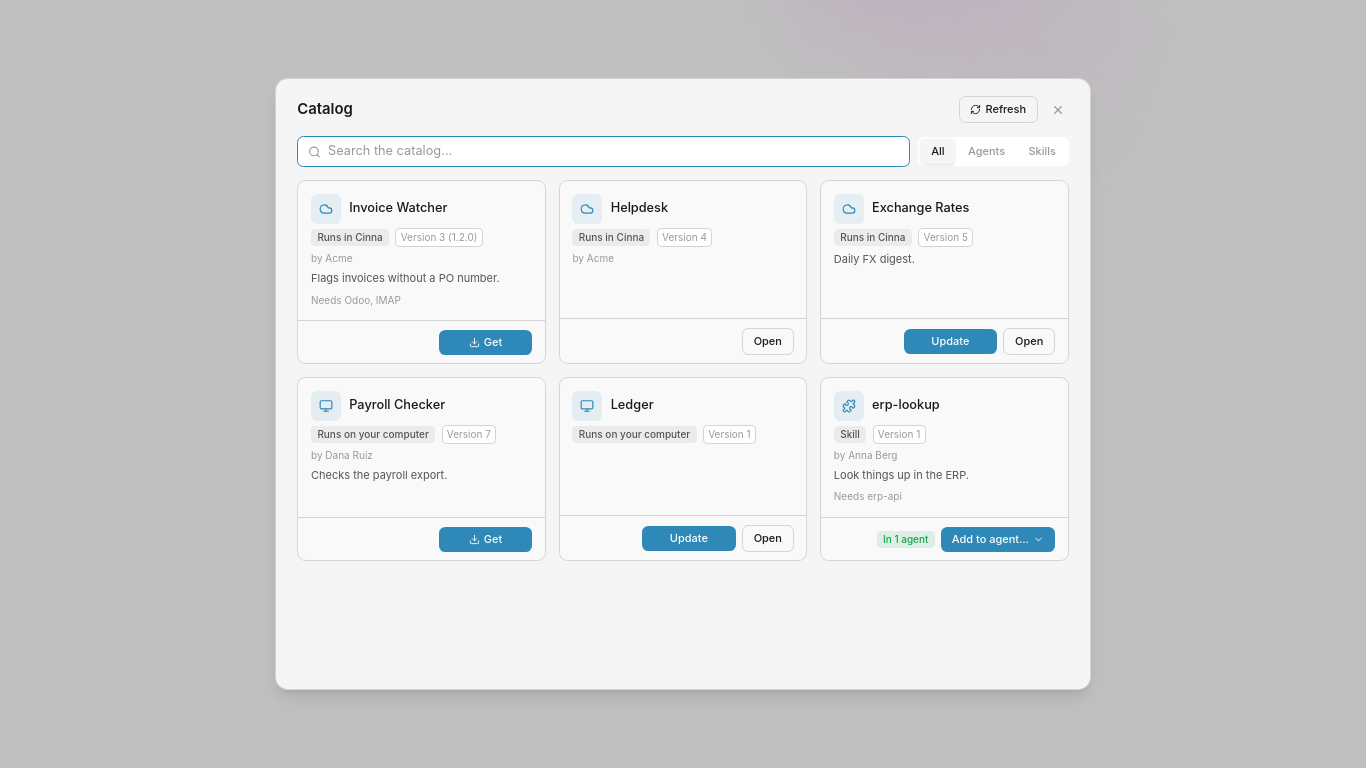
CatalogBrowserModal — Add to agent… › a Cinna team agent whose access the listing does not know is Can use only; edit is not
Check: the 2nd button "Update" is shown, box [642,526,736,551]
What coordinates should you click on to do the following:
click the button "Add to agent…"
I would click on:
 (998, 539)
Its box is [941,527,1055,552].
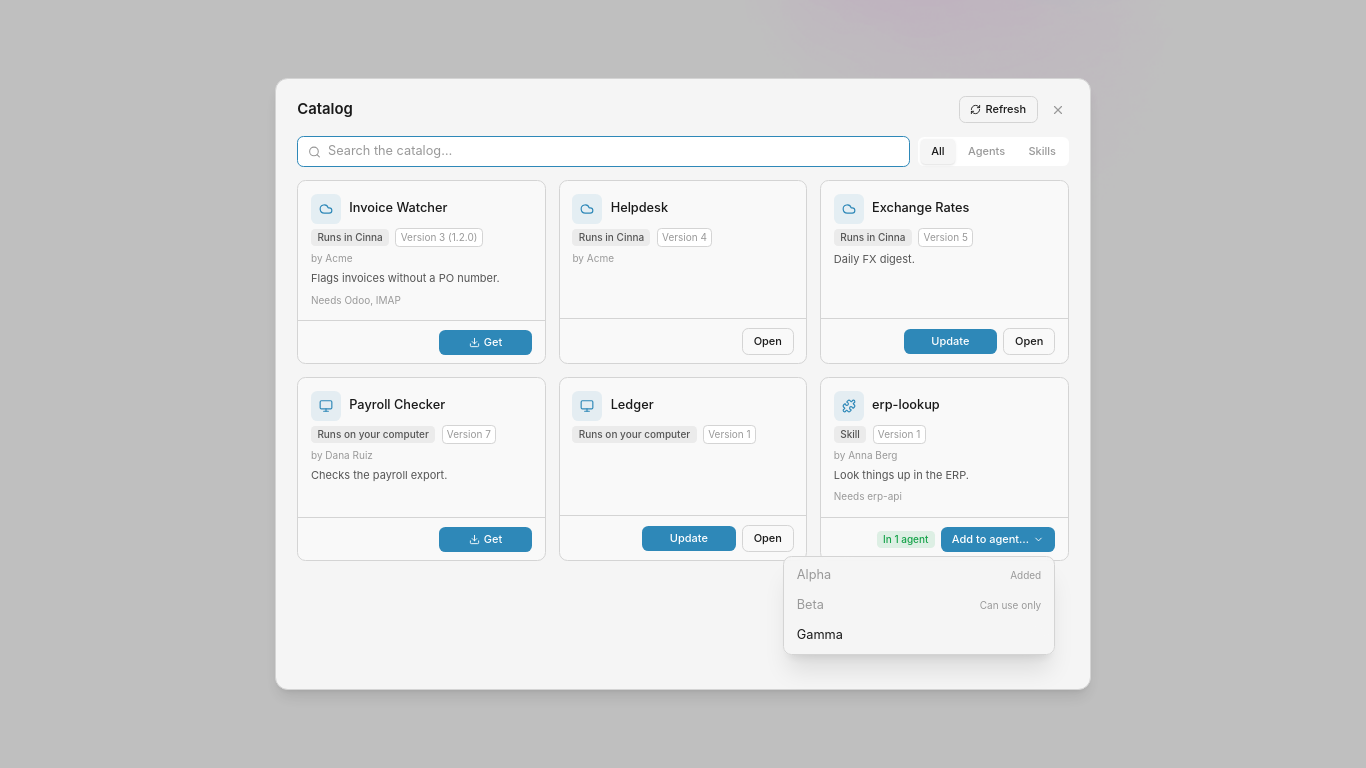
Check: the text "Can use only" is shown, box [980,599,1041,612]
Check: the menu item "Gamma" is enabled, box [788,620,1050,650]
